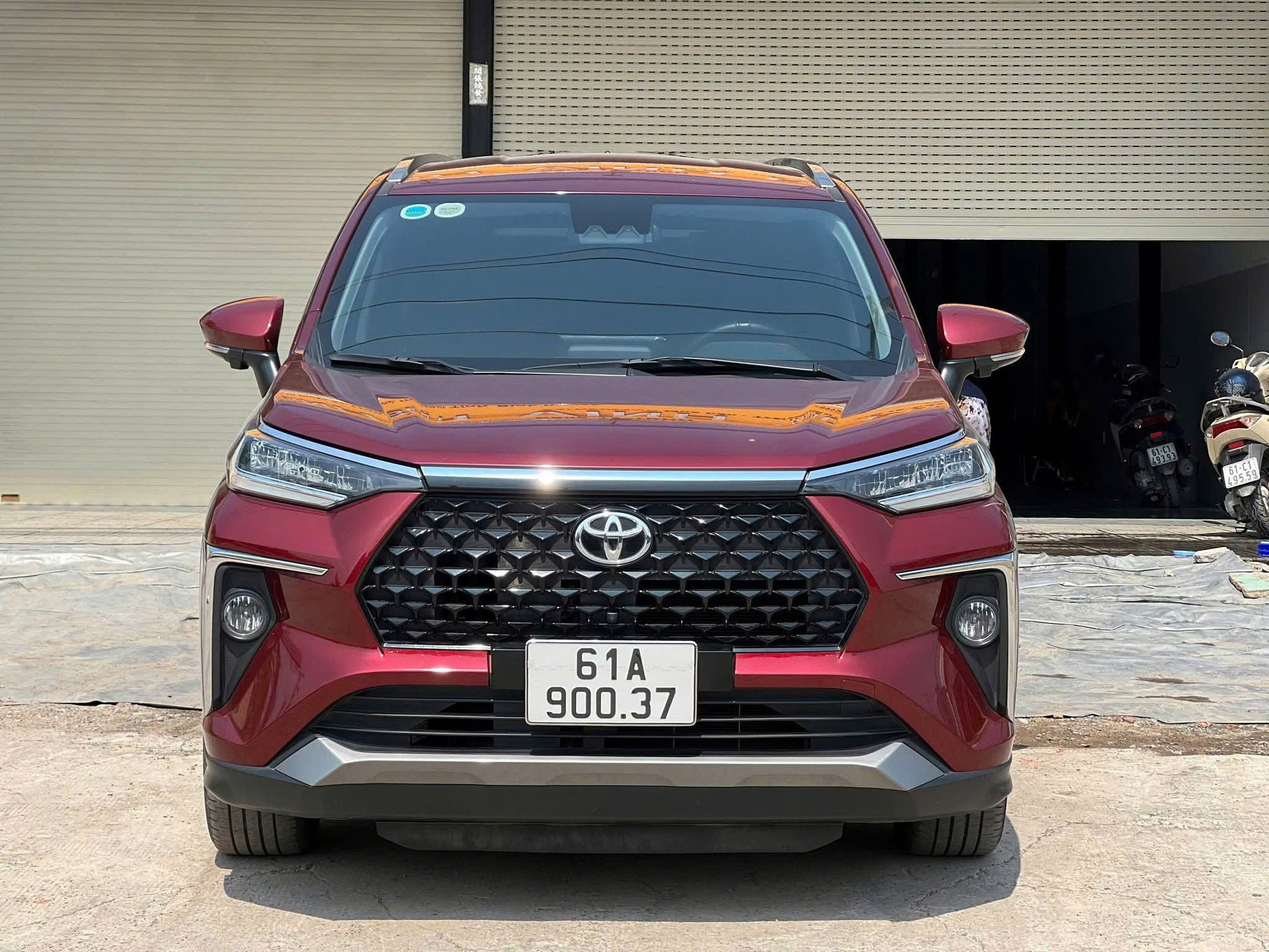Bien-so: (518, 635, 702, 728)
